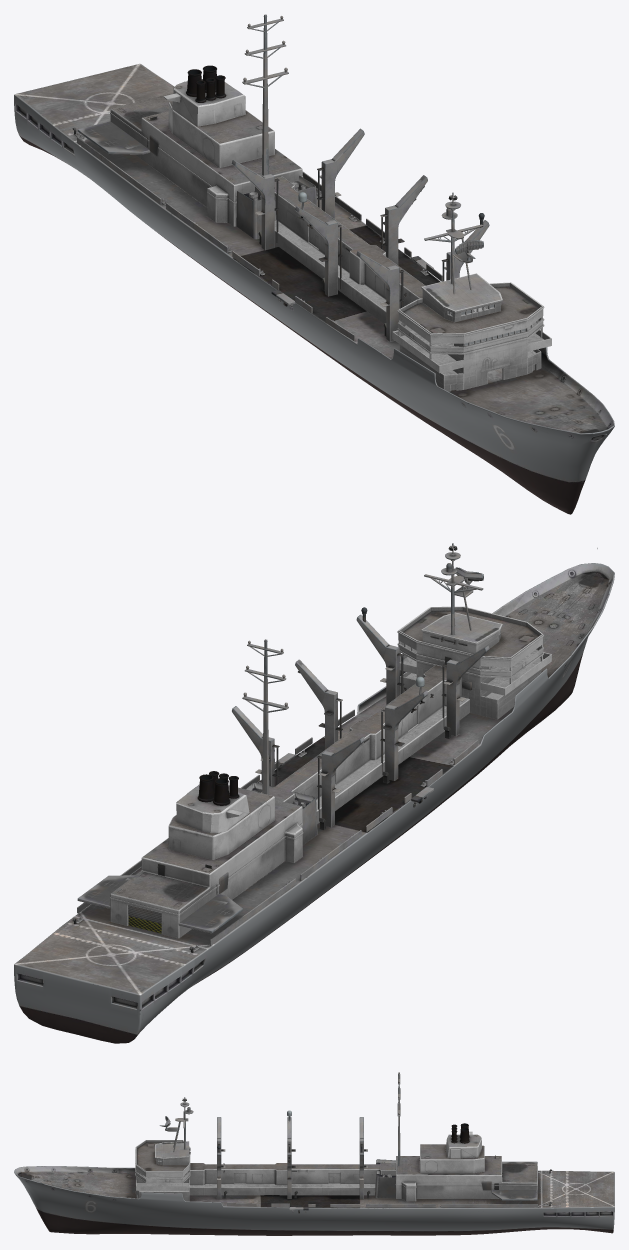
Rendered from sswuyi.gltf.
The picture shows the model from 3 angles, top to bottom: view 1: azimuth 30°, elevation 25°; view 2: azimuth 150°, elevation 25°; view 3: azimuth 270°, elevation 25°; orthographic projection. The views are drawn at different scales.
Parts seen in each view (by area): view 1: GYJ_BJJ; view 2: GYJ_BJJ; view 3: GYJ_BJJ.
Boxes of the visible parts, x1,y1,x2,y2 form: GYJ_BJJ: [14, 14, 614, 514]; GYJ_BJJ: [14, 543, 614, 1043]; GYJ_BJJ: [14, 1072, 614, 1235].
Bounding box in the file's own units: 3.81 × 6.92 × 23.61.
Materials: 4 (4 with a texture image).
